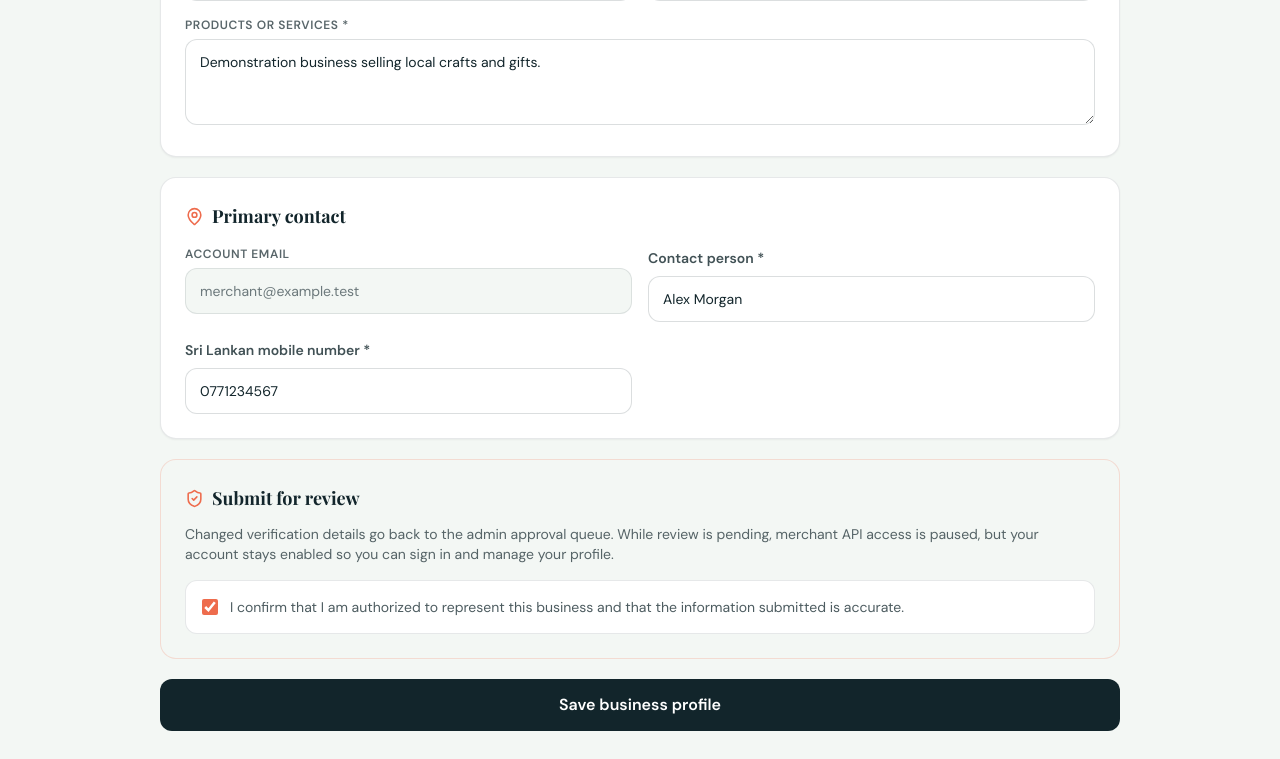
Test: MerchantProfilePage › keeps the approved status and access when saving unchanged details
(page scrolled)
What coordinates should you click on to do the following:
click the button "Save business profile"
I would click on:
 (640, 705)
Its box is [160,679,1120,731].
(page scrolled)
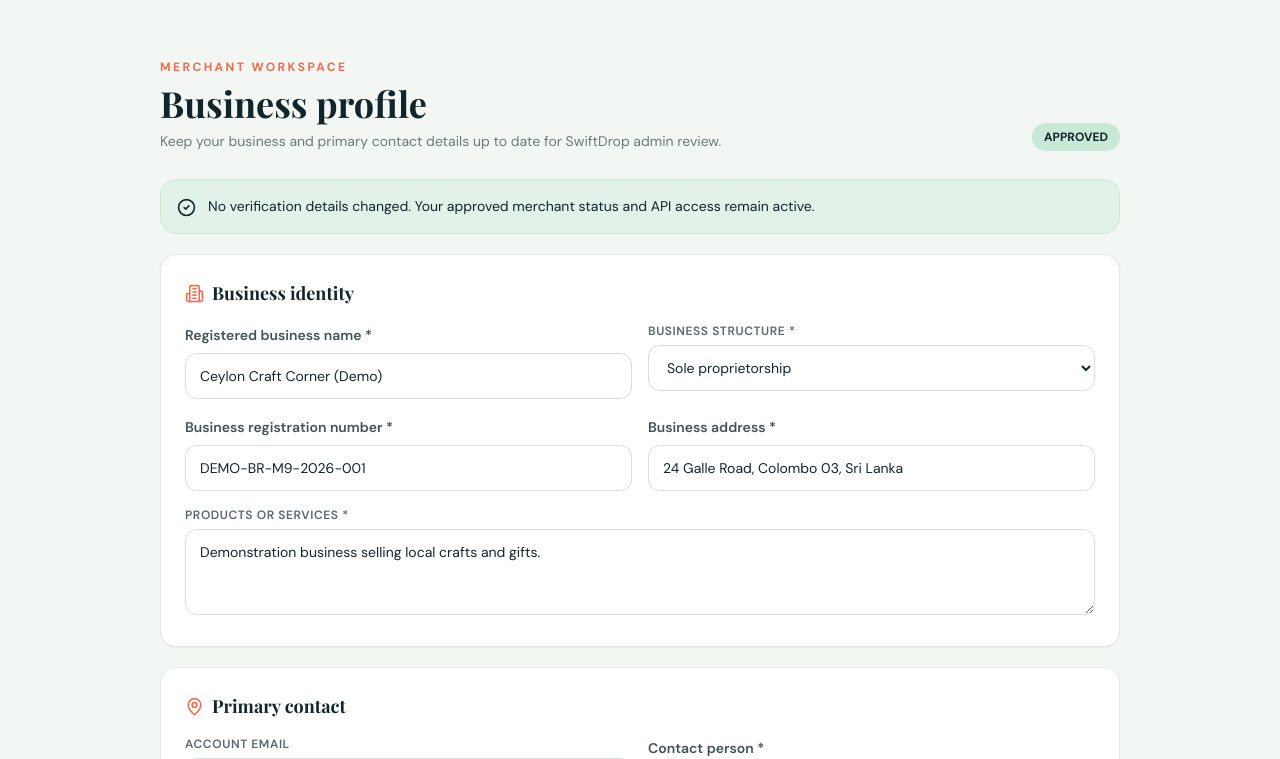
Check: the text "APPROVED" is shown, box [1032,123,1120,151]
Check: the message shows "No verification details changed", box [208,197,815,215]
Check: the message shows "API access remain active", box [208,197,815,215]
